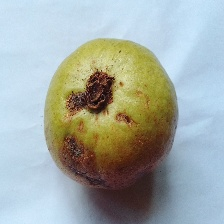guava: (21, 30, 202, 224)
